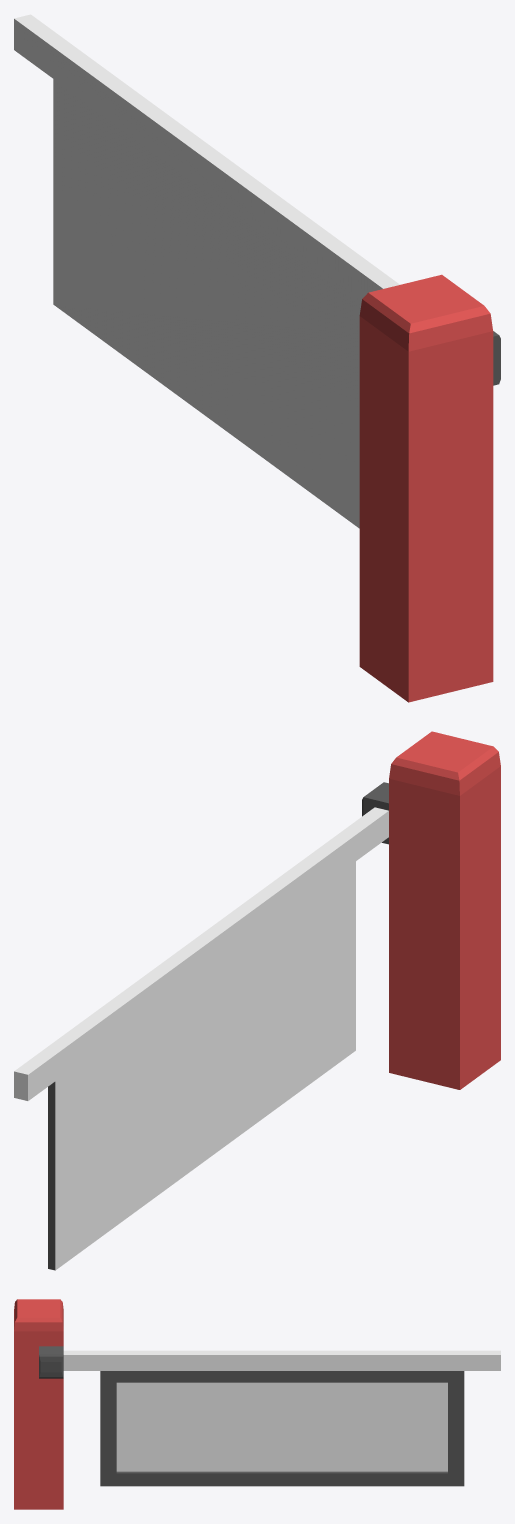
The model's file is Barrier 1.2.fbx.
3 views of the same model, one above another, from view 1: azimuth 30°, elevation 25°; view 2: azimuth 150°, elevation 25°; view 3: azimuth 270°, elevation 25° (orthographic). The views are drawn at different scales.
Parts seen in each view (by area): view 1: Barrier_7.001; view 2: Barrier_7.001; view 3: Barrier_7.001.
Part boxes in pixels (x1,y1,x2,y2): Barrier_7.001: (14, 14, 500, 702); Barrier_7.001: (14, 731, 500, 1270); Barrier_7.001: (14, 1299, 500, 1509).
Bounding box in the file's own units: 66.83 × 202 × 468.
